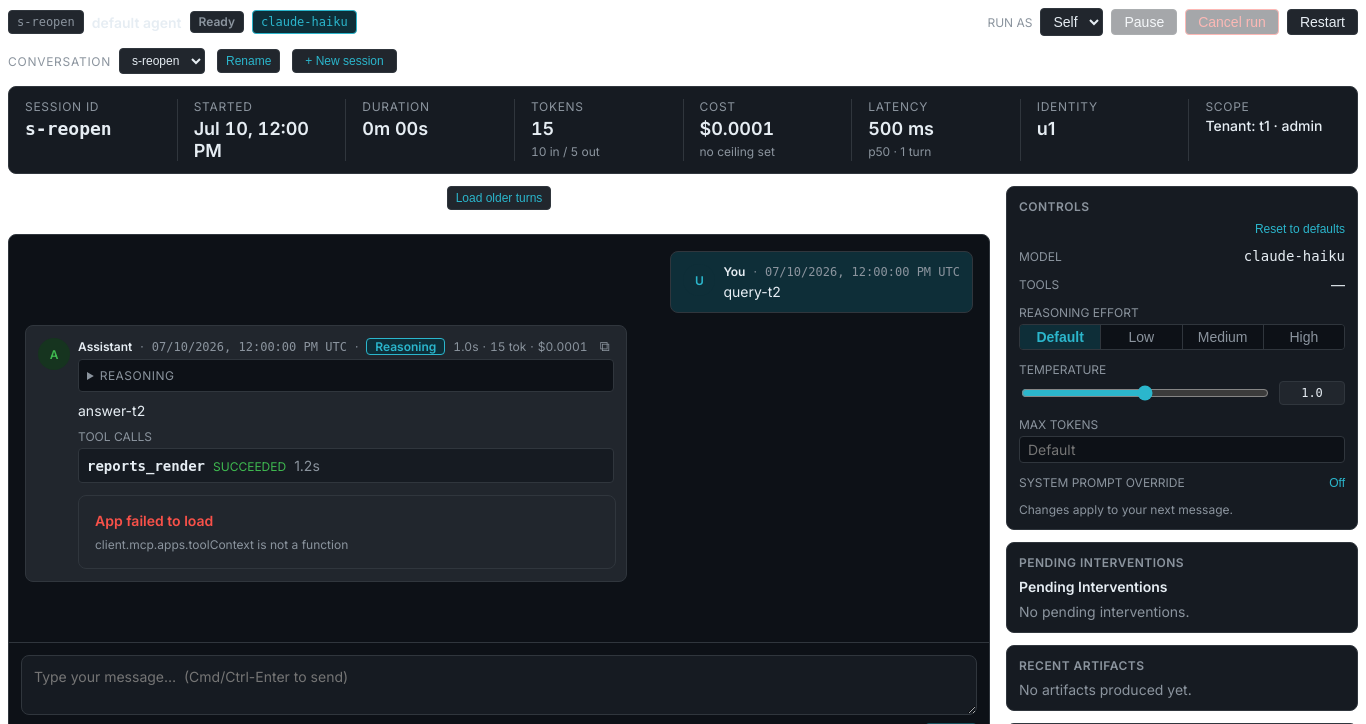
it: Playground reopen — the TWO-READ open (HA-64 / D-425) › a refused older-page cursor surfaces an honest notice — never a silent reset or empty page
The image size is (1366, 724).
Click the button with test id "load-older-turns" at (499, 198), box [447,186,551,210]
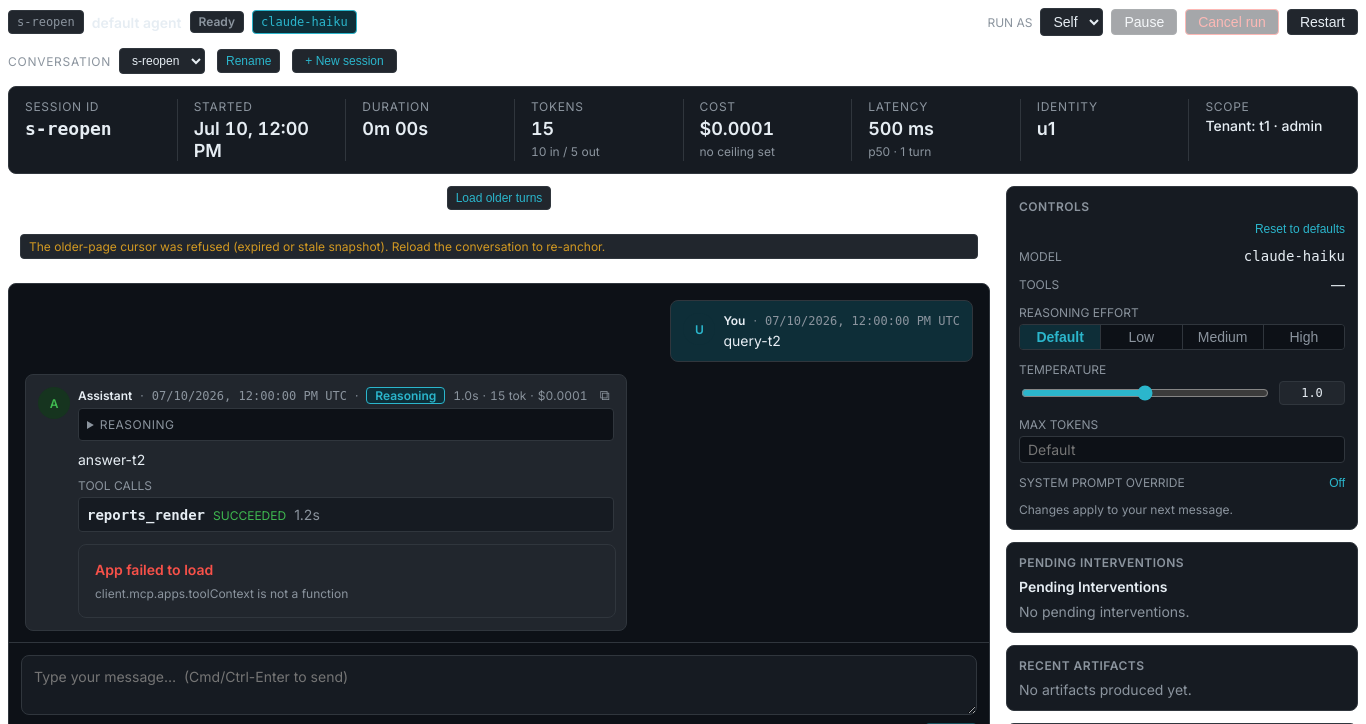
Now the message with test id "older-turns-error" is shown, box [20,234,978,259]
Now the message with test id "older-turns-error" shows "cursor", box [29,239,605,254]
